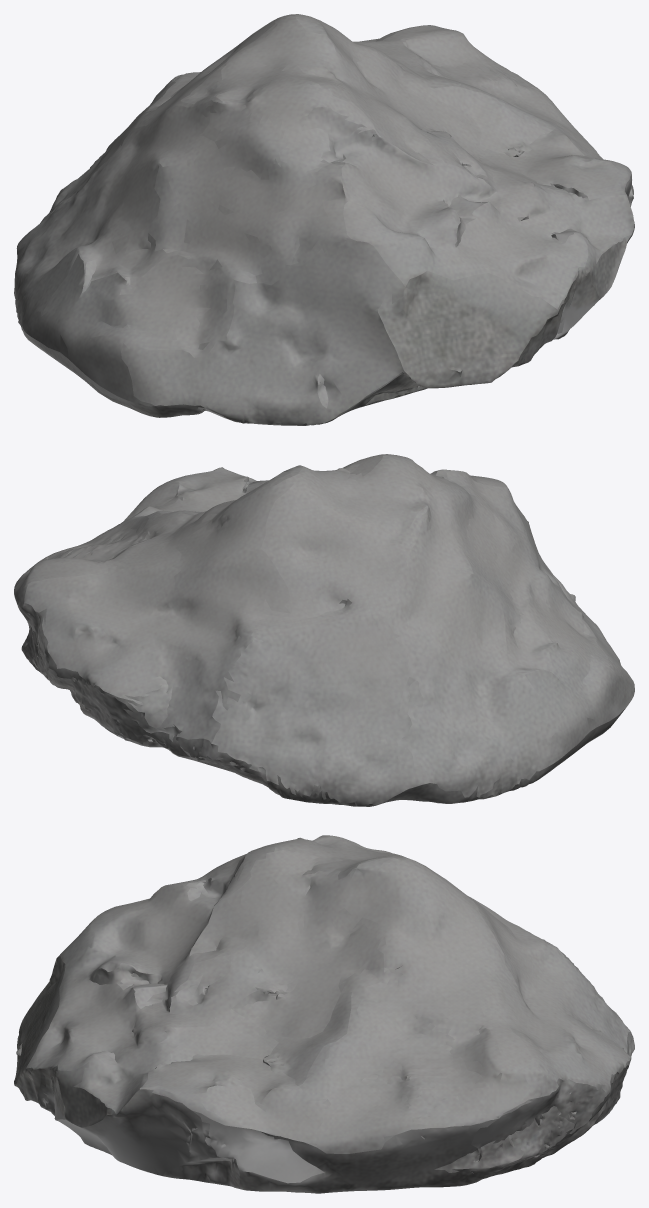
3 renders of one model, top to bottom at view 1: azimuth 30°, elevation 25°; view 2: azimuth 150°, elevation 25°; view 3: azimuth 270°, elevation 25°, orthographic. The views are drawn at different scales.
Parts seen in each view (by area): view 1: world; view 2: world; view 3: world.
Boxes of the visible parts, left/top/right/bottom form: world: left=14, top=14, right=634, bottom=425; world: left=14, top=454, right=634, bottom=806; world: left=14, top=835, right=634, bottom=1193.
Size of the model in its own units: 1.2 by 0.5578 by 1.2.
1 material, 1 textured.
